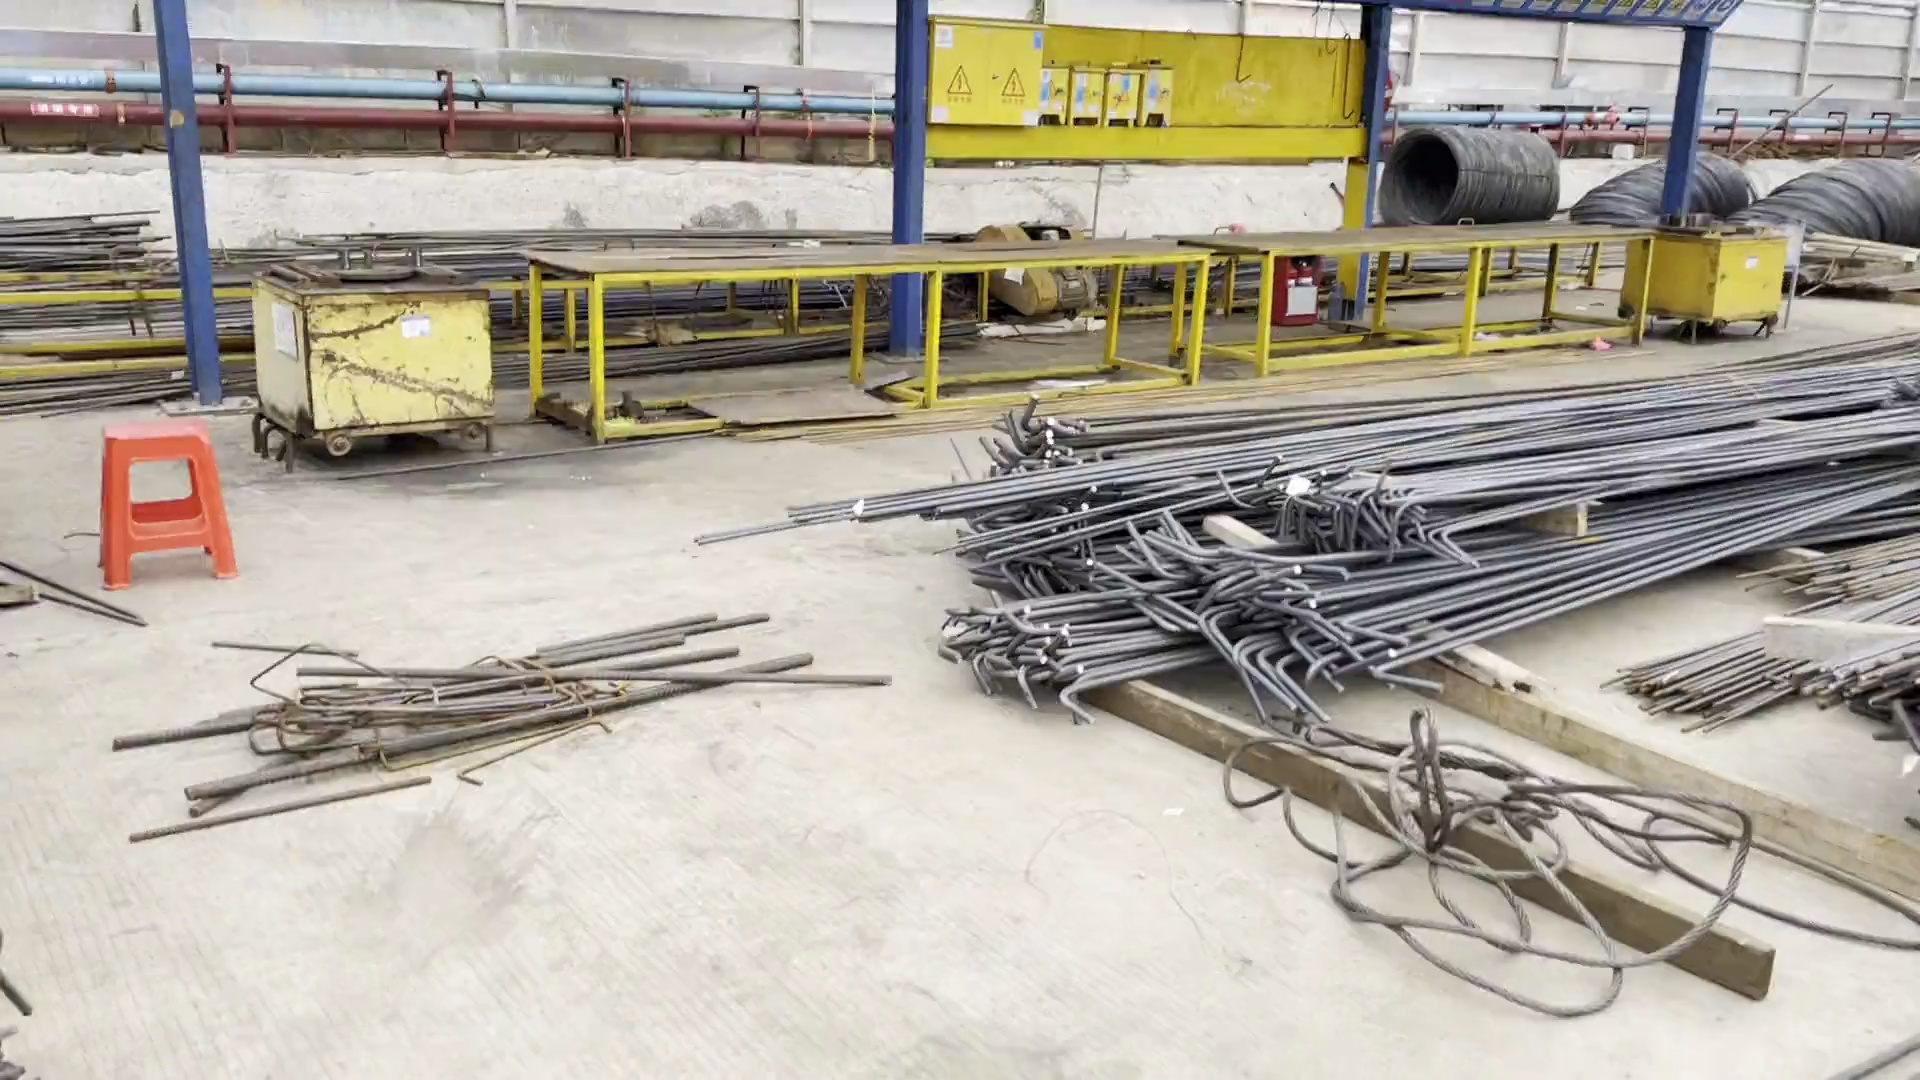ebox: (919, 1, 1052, 145)
rebar: (843, 291, 1920, 723)
